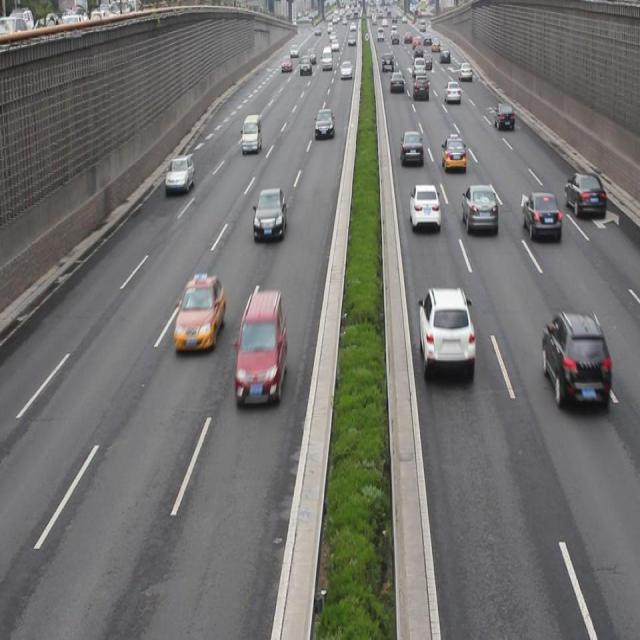car: (542, 310, 609, 408), (418, 285, 475, 380), (174, 274, 225, 354), (520, 188, 561, 242), (563, 171, 606, 221), (252, 186, 286, 243), (461, 184, 498, 234), (409, 182, 440, 230), (164, 154, 194, 194), (399, 127, 423, 169), (441, 134, 466, 173), (312, 107, 334, 142), (493, 100, 515, 133)
truck: (233, 287, 287, 403), (239, 113, 262, 154)
